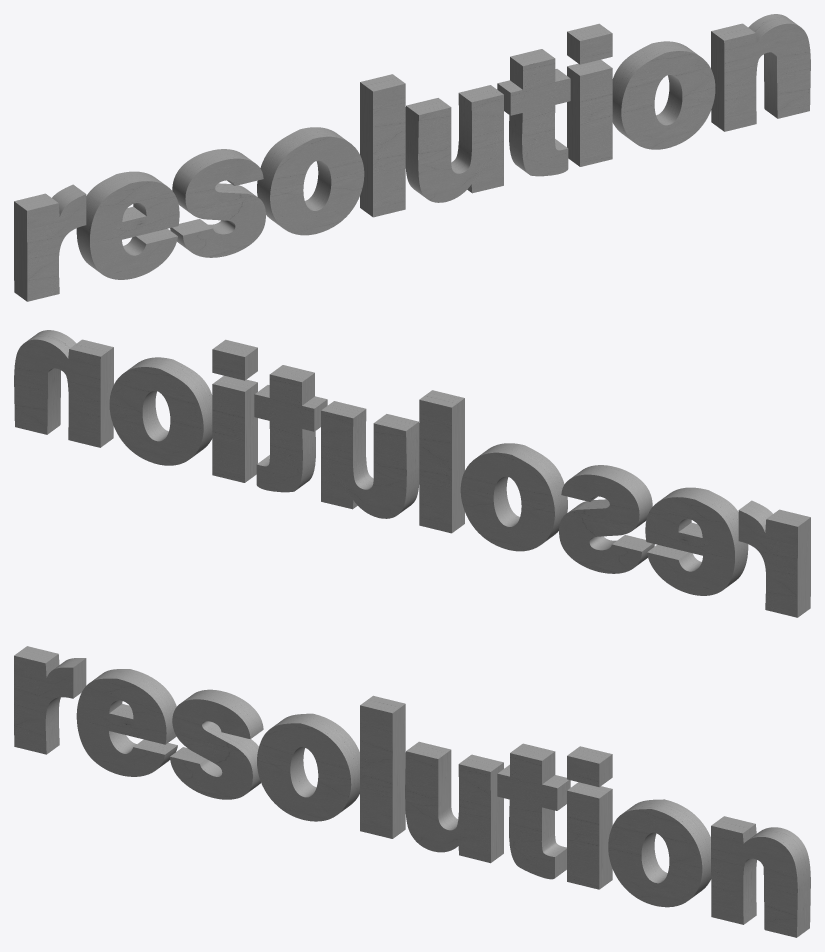
Rendered from Resolution.obj.
The picture shows the model from 3 angles, top to bottom: view 1: azimuth 30°, elevation 25°; view 2: azimuth 150°, elevation 25°; view 3: azimuth 330°, elevation 25°; orthographic projection.
Parts seen in each view (by area): view 1: Layer 1; view 2: Layer 1; view 3: Layer 1.
Boxes of the visible parts, x1=… form: Layer 1: x1=14, y1=14, x2=810, y2=301; Layer 1: x1=14, y1=330, x2=810, y2=617; Layer 1: x1=14, y1=646, x2=810, y2=937.
Size of the model in its own units: 4107 by 643 by 119.
1 material, 1 textured.
